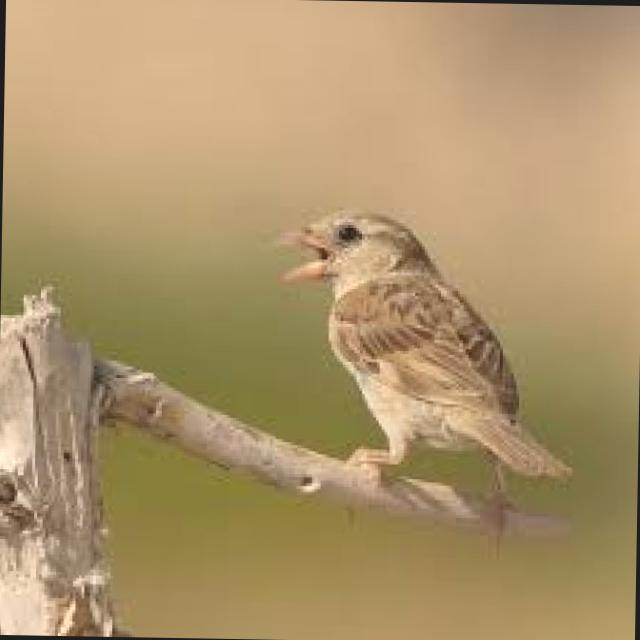bird: (266, 205, 582, 524)
